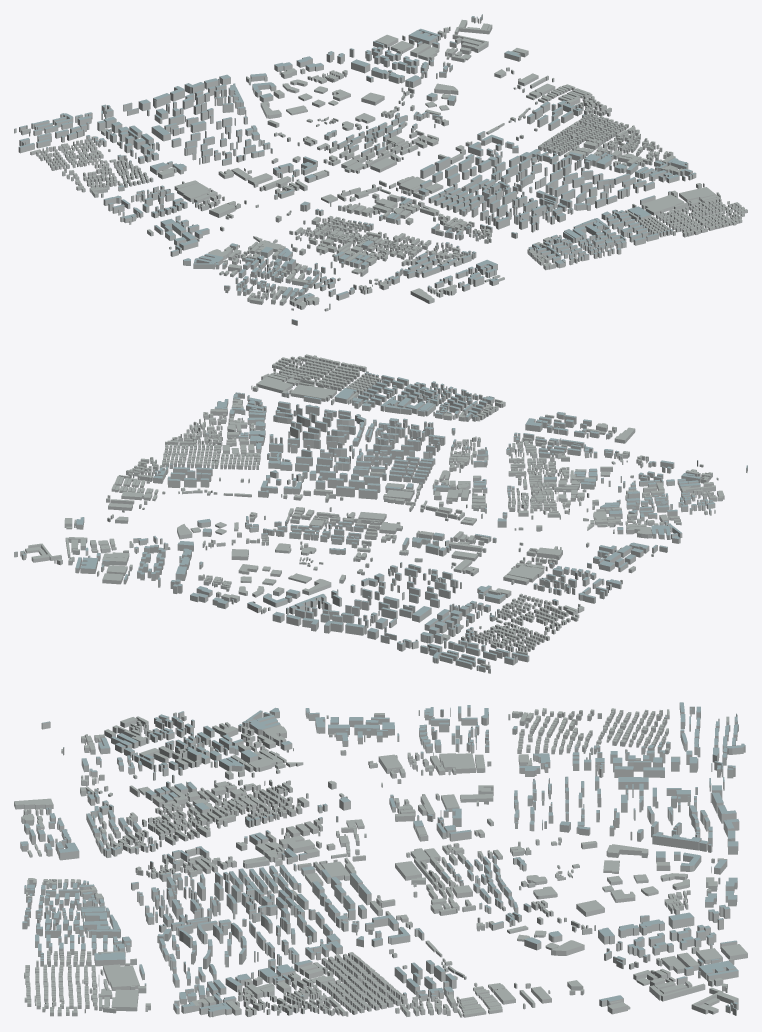
Rendered from far.glb.
The picture shows the model from 3 angles, top to bottom: view 1: azimuth 30°, elevation 25°; view 2: azimuth 150°, elevation 25°; view 3: azimuth 270°, elevation 25°; orthographic projection. The views are drawn at different scales.
Bounding box in the file's own units: 2141 × 38.45 × 2153.
